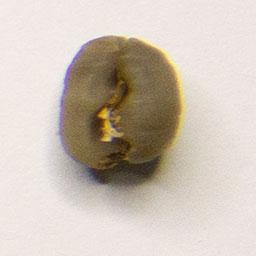peaberry: (55, 31, 187, 174)
